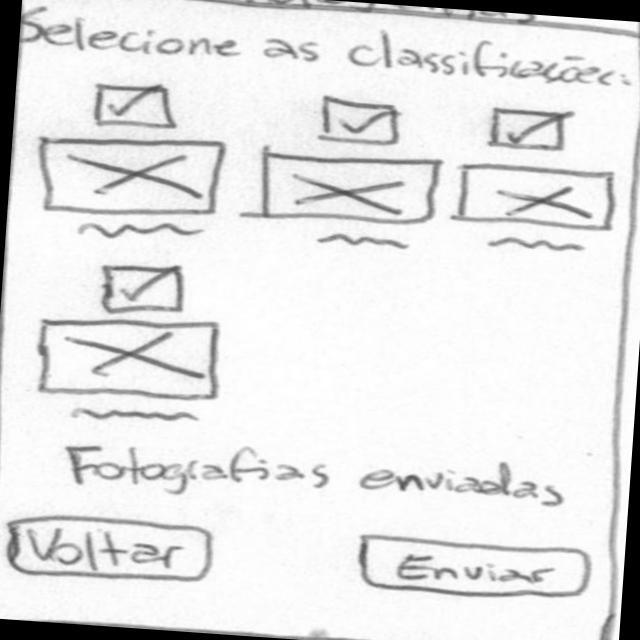button: (352, 531, 595, 606), (1, 507, 220, 590)
checkbox: (94, 257, 197, 320), (308, 92, 414, 151), (487, 101, 582, 157), (88, 80, 184, 134)
container: (1, 1, 640, 640), (22, 1, 640, 42)
image: (38, 311, 230, 406), (34, 131, 228, 224), (254, 144, 444, 233), (455, 157, 620, 236)
label: (23, 8, 640, 94), (60, 432, 577, 520), (38, 1, 543, 26)
text: (77, 214, 212, 246), (68, 402, 206, 432), (314, 228, 416, 258), (487, 233, 593, 259)
